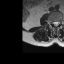CCS_normal: (55, 19, 57, 27)
LFS_normal: (59, 20, 61, 26)
LLS_normal: (57, 20, 58, 27)
RFS_normal: (51, 19, 53, 26)
RLS_normal: (53, 19, 55, 26)
